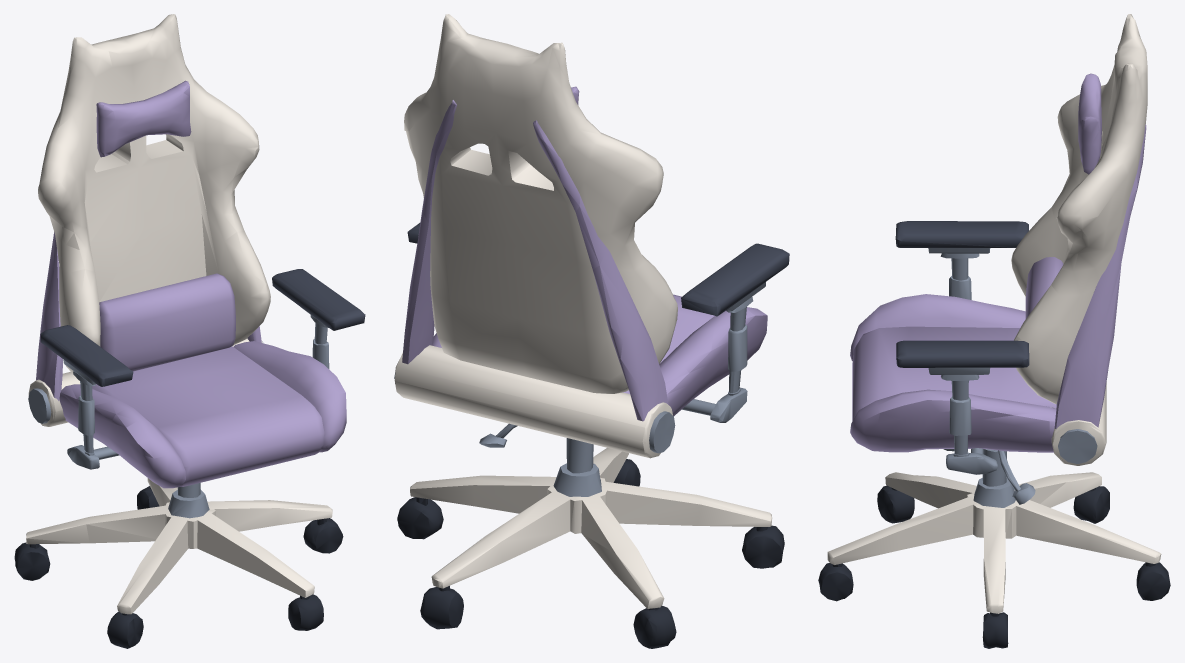
File: gaming_chair.glb
The picture shows the model from 3 angles, left to right: view 1: azimuth 30°, elevation 25°; view 2: azimuth 150°, elevation 25°; view 3: azimuth 270°, elevation 25°; orthographic projection. The views are drawn at different scales.
Bounding box in the file's own units: 1.5 × 2.57 × 1.53.
